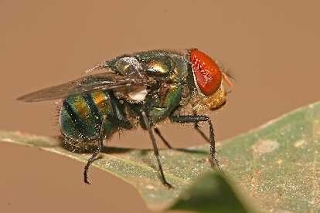green bottles fly: (14, 14, 237, 190)
